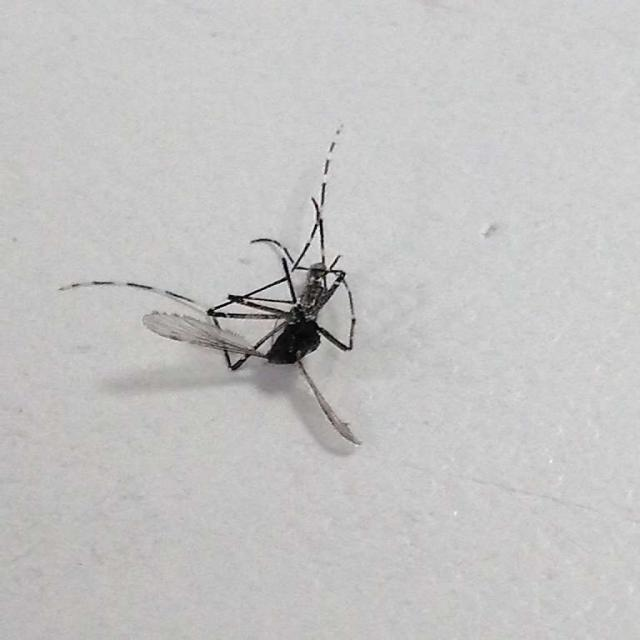albopictus: (61, 128, 397, 440)
